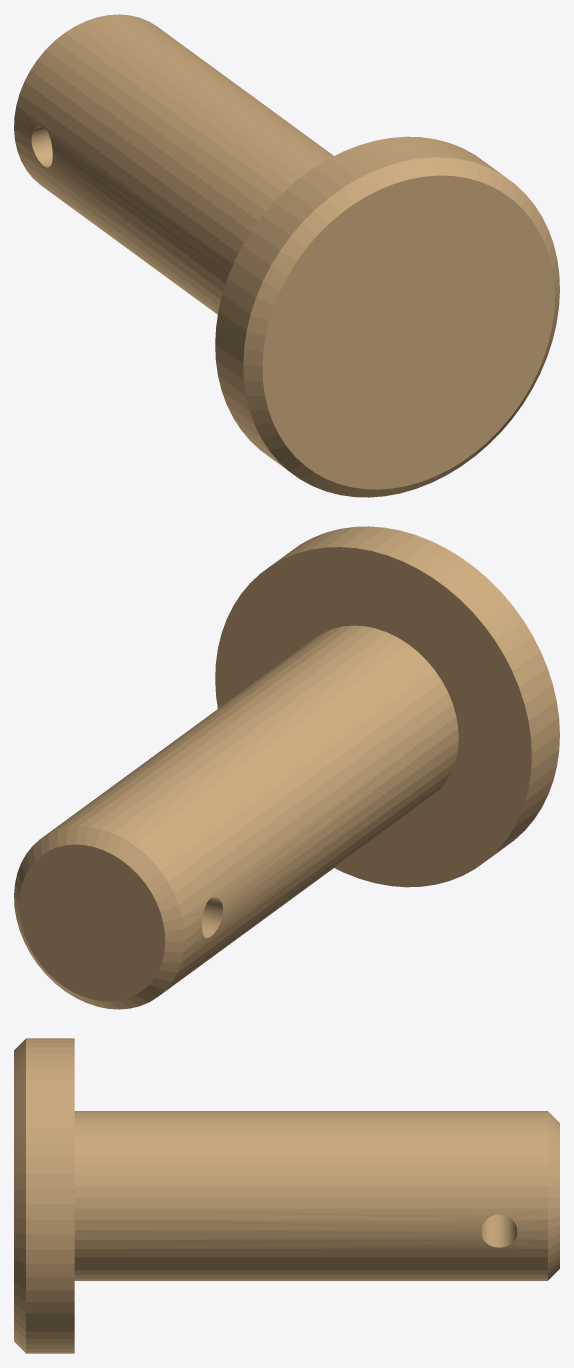
File: spindle_pin.glb
3 views of the same model, one above another, from view 1: azimuth 30°, elevation 25°; view 2: azimuth 150°, elevation 25°; view 3: azimuth 270°, elevation 25° (orthographic). The views are drawn at different scales.
Visible parts, largest first — view 1: Node1; view 2: Node1; view 3: Node1.
Part boxes in pixels (<box>): Node1: <box>14,14,559,497</box>; Node1: <box>14,526,559,1009</box>; Node1: <box>14,1038,559,1353</box>.
Bounding box in the file's own units: 130 × 130 × 225.
